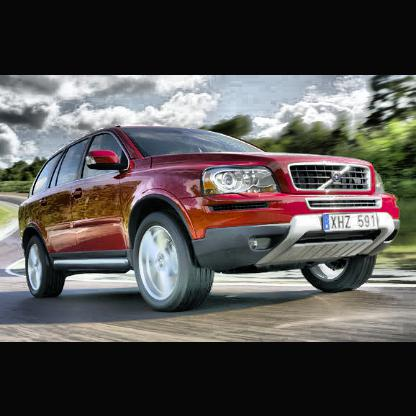Volvo XC90 SUV 2007: (20, 128, 400, 312)
